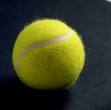tennis ball: (10, 16, 87, 91)
